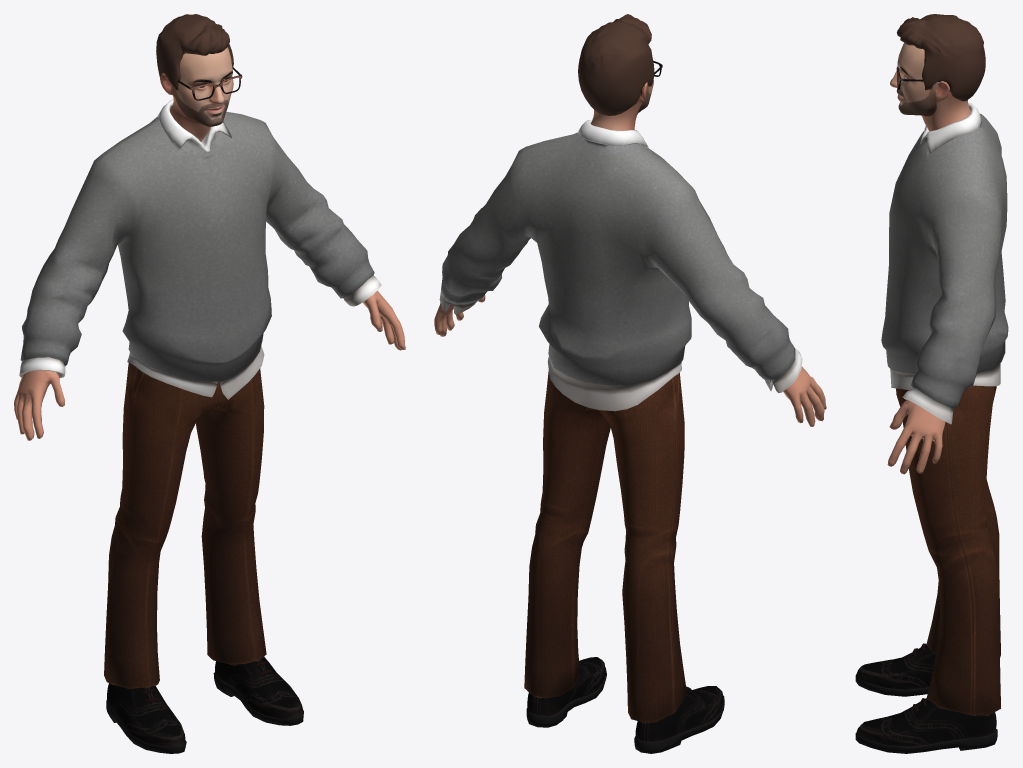
The model's file is SampleScene.glb.
The picture shows the model from 3 angles, left to right: view 1: azimuth 30°, elevation 25°; view 2: azimuth 150°, elevation 25°; view 3: azimuth 270°, elevation 25°; orthographic projection.
Parts seen in each view (by area): view 1: Renderer_Avatar; view 2: Renderer_Avatar; view 3: Renderer_Avatar.
Part boxes in pixels (<box>): Renderer_Avatar: <box>14,14,405,753</box>; Renderer_Avatar: <box>434,14,826,753</box>; Renderer_Avatar: <box>855,14,1008,753</box>.
Bounding box in the file's own units: 1.06 × 1.86 × 0.3697.
1 material, 1 textured.
